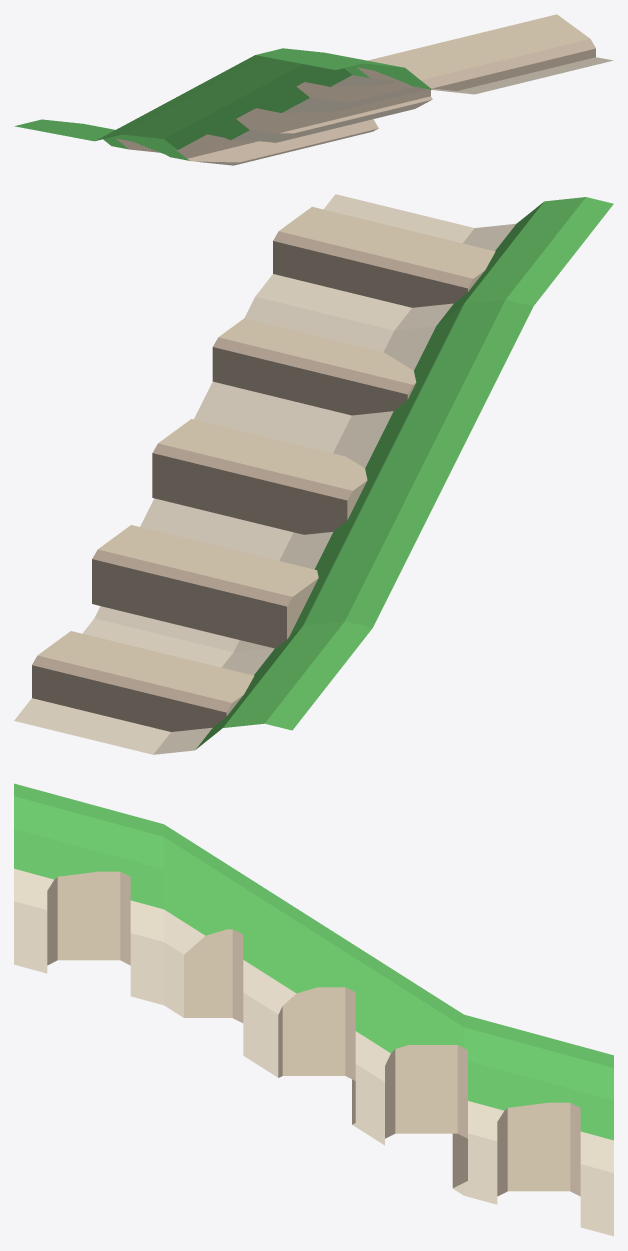
Rendered from Hilly_Terrain_Path_Hill_Sharp_Steps_Side.glb.
3 renders of one model, top to bottom at view 1: azimuth 30°, elevation 25°; view 2: azimuth 150°, elevation 25°; view 3: azimuth 270°, elevation 25°, orthographic. The views are drawn at different scales.
Parts seen in each view (by area): view 1: Hilly_Terrain_Path_Hill_Sharp_Steps_Side; view 2: Hilly_Terrain_Path_Hill_Sharp_Steps_Side; view 3: Hilly_Terrain_Path_Hill_Sharp_Steps_Side.
Boxes of the visible parts, left/top/right/bottom form: Hilly_Terrain_Path_Hill_Sharp_Steps_Side: left=14, top=14, right=613, bottom=165; Hilly_Terrain_Path_Hill_Sharp_Steps_Side: left=14, top=194, right=613, bottom=754; Hilly_Terrain_Path_Hill_Sharp_Steps_Side: left=14, top=783, right=613, bottom=1236.
Bounding box in the file's own units: 0.53 × 0.636 × 1.06.
